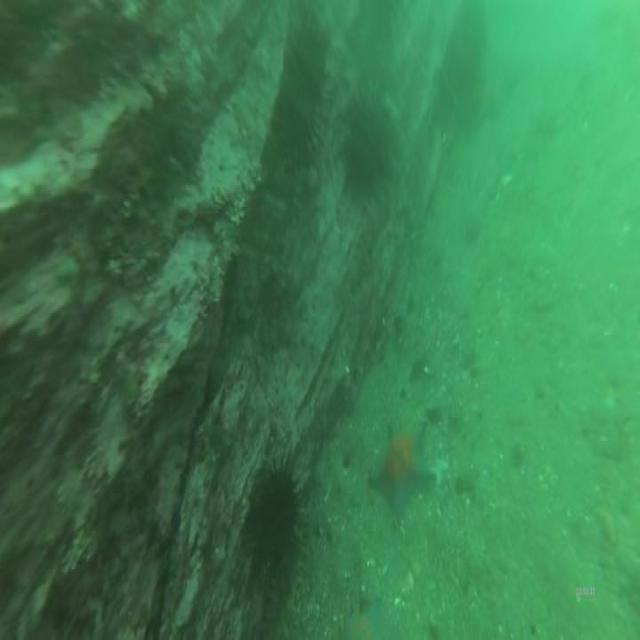echinus: (263, 462, 302, 560), (351, 100, 389, 196)
starfish: (370, 425, 430, 512)
